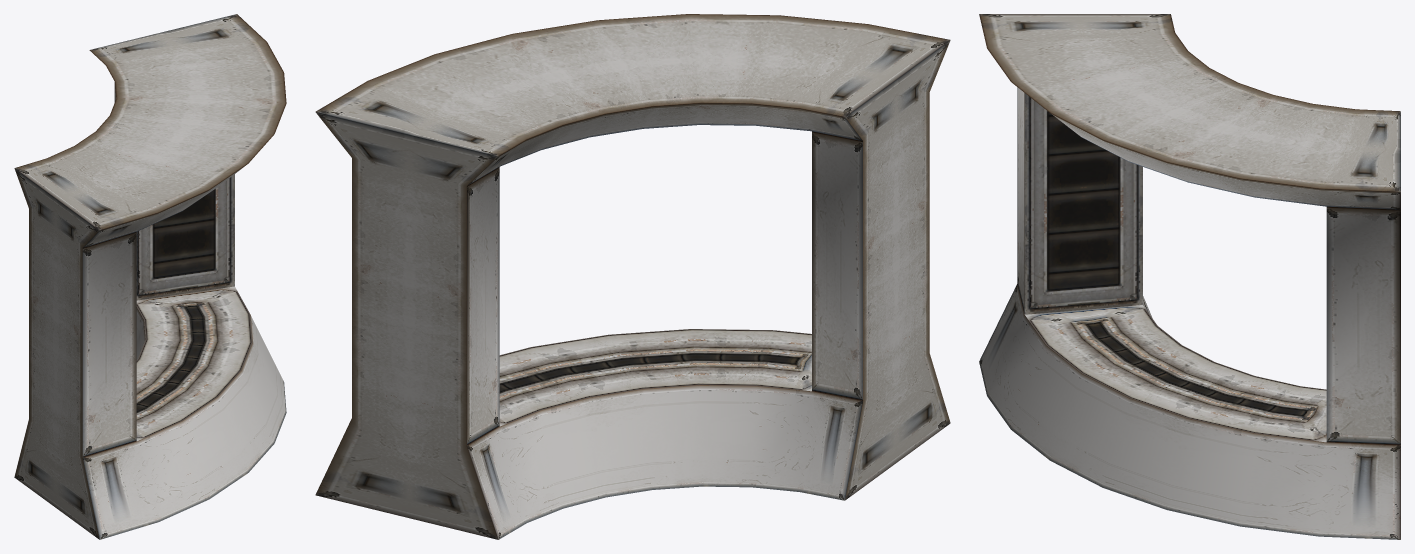
Rendered from scifi_window_curve2.FBX.
The picture shows the model from 3 angles, left to right: view 1: azimuth 30°, elevation 25°; view 2: azimuth 150°, elevation 25°; view 3: azimuth 270°, elevation 25°; orthographic projection. The views are drawn at different scales.
Visible parts, largest first — view 1: Plane155; view 2: Plane155; view 3: Plane155.
Part boxes in pixels (<box>): Plane155: <box>14,14,286,539</box>; Plane155: <box>315,14,950,539</box>; Plane155: <box>979,14,1400,539</box>.
Bounding box in the file's own units: 279 × 254 × 279.
